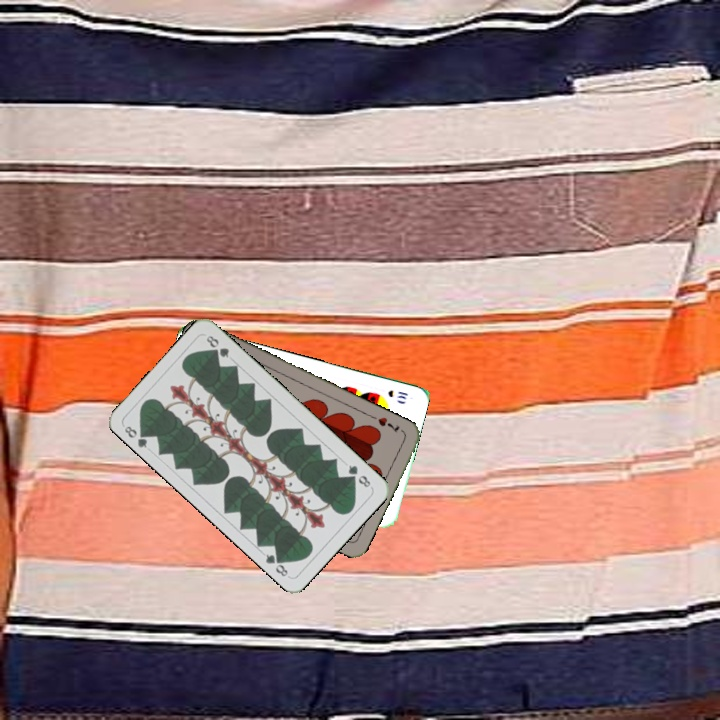G8: (120, 422, 152, 451), (344, 460, 373, 490)
H7: (374, 413, 402, 435)
S10: (384, 386, 411, 402)
